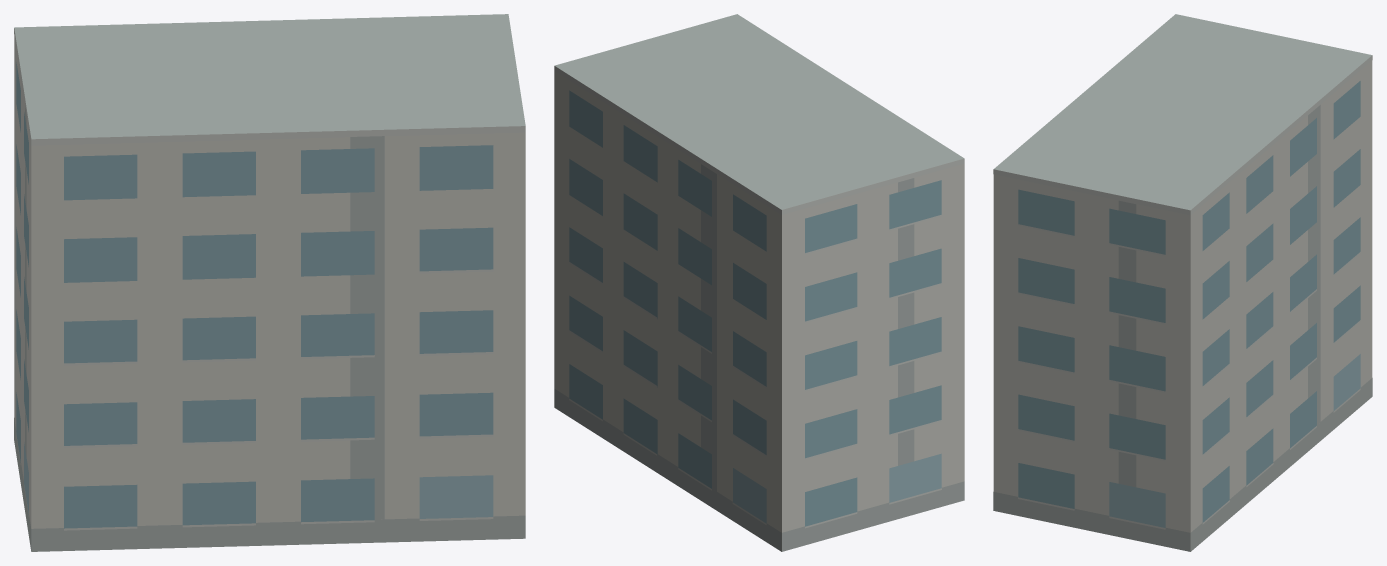
File: survey-upis-32886168.glb
The picture shows the model from 3 angles, left to right: view 1: azimuth 30°, elevation 25°; view 2: azimuth 150°, elevation 25°; view 3: azimuth 270°, elevation 25°; orthographic projection. The views are drawn at different scales.
Visible parts, largest first — view 1: survey-upis-32886168.tmp; view 2: survey-upis-32886168.tmp; view 3: survey-upis-32886168.tmp.
Part boxes in pixels (box(x1,y1,x2,y2)): survey-upis-32886168.tmp: box(14, 14, 525, 551); survey-upis-32886168.tmp: box(554, 14, 964, 551); survey-upis-32886168.tmp: box(993, 14, 1372, 551).
Size of the model in its own units: 19.67 by 15.95 by 16.05.
